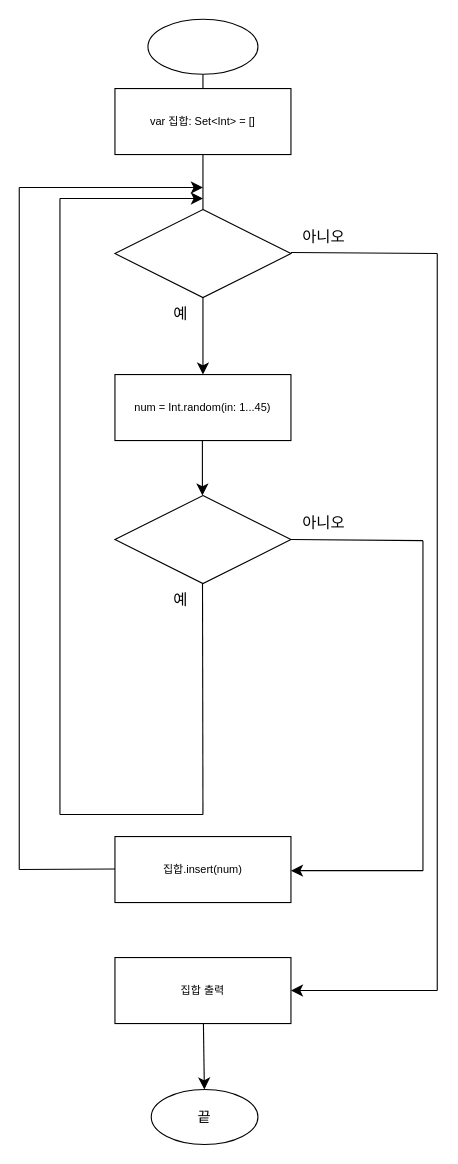
Image size: 458x1164. Some labels were removed from this diagram. Here are the shapes that lost their labels. From the top down, the centre of each, then its label:
At (202,46): "시작".
At (202,253): "집합.count가 6 미만인가?".
At (202,539): "num이 집합에 포함되어있는가?".
